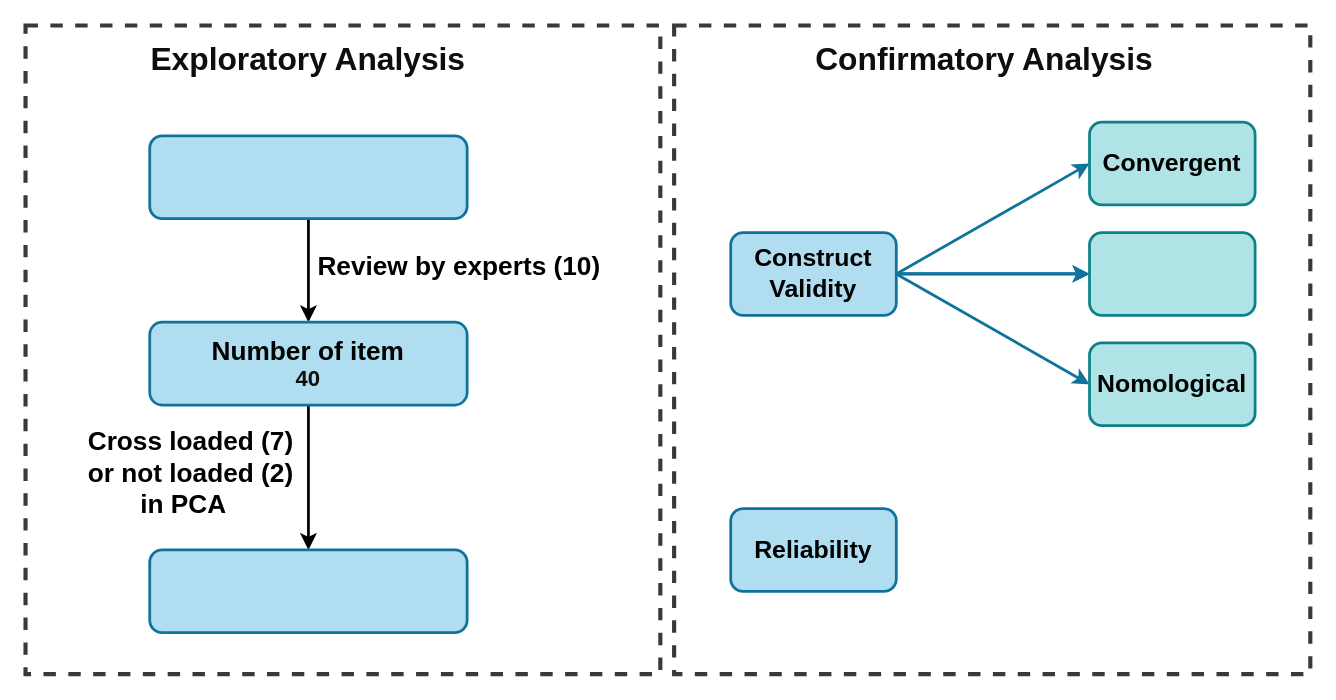
Some shapes in this 1336 by 700 pixel diagram are drawn without their labels. The shapes that lost their labels are listed below. From the top down, each one's box as (x1, y1, x2, y2) in pixels, then its label:
(148, 134, 468, 219): Number of item 50
(1087, 230, 1256, 316): Discriminant
(148, 548, 468, 633): Number of item 31
